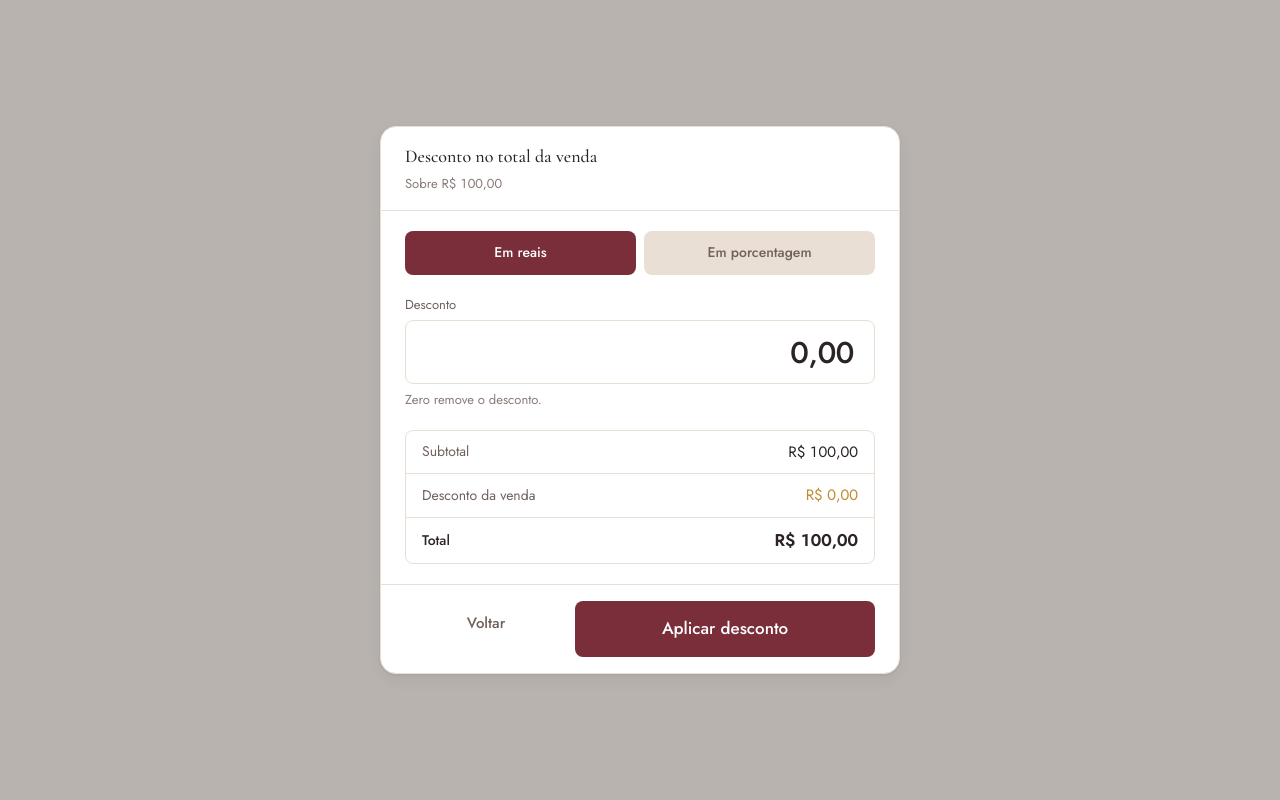
Test: ModalDesconto — acima da alçada › não deixa confirmar sem a liberação da gerente
Click the button "Em porcentagem" at (760, 252), box [644,230,875,274]
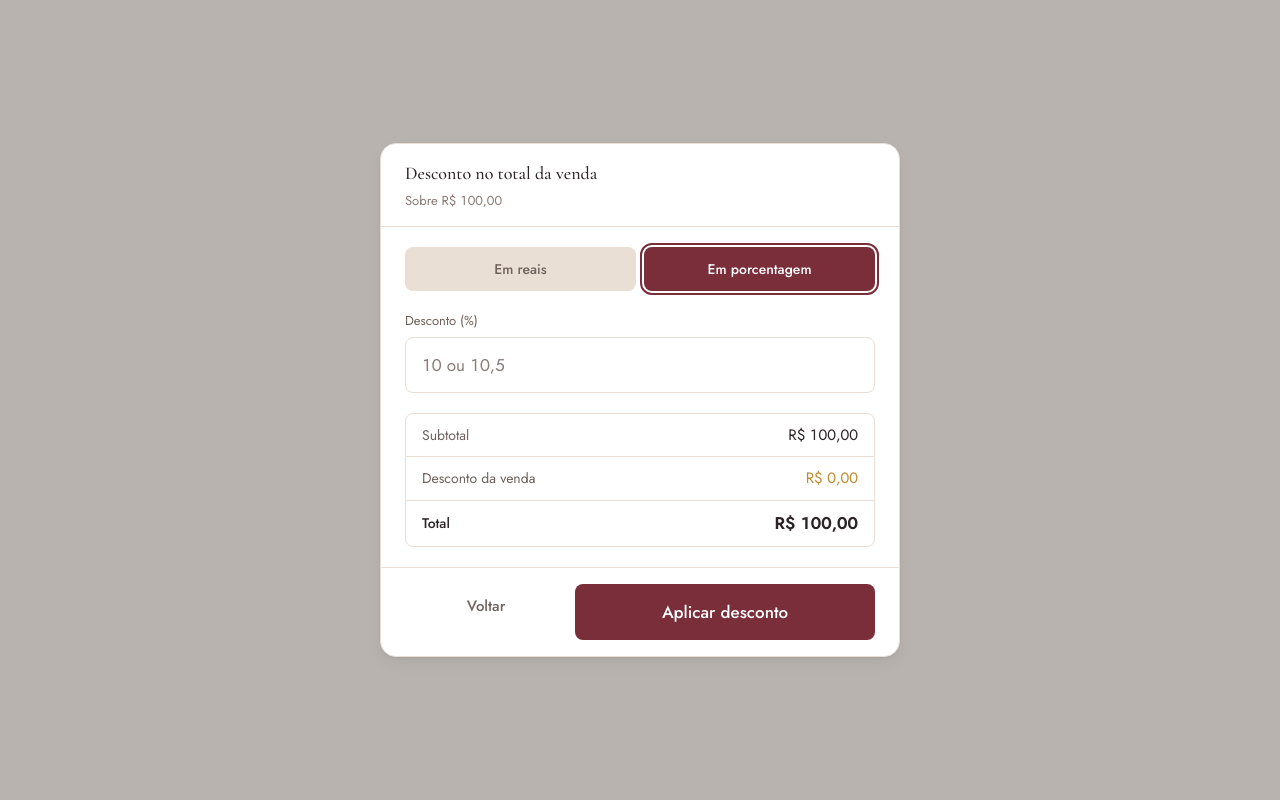
Type "20" into the field labelled "Desconto (%)" at (640, 365), box [405,337,875,393]
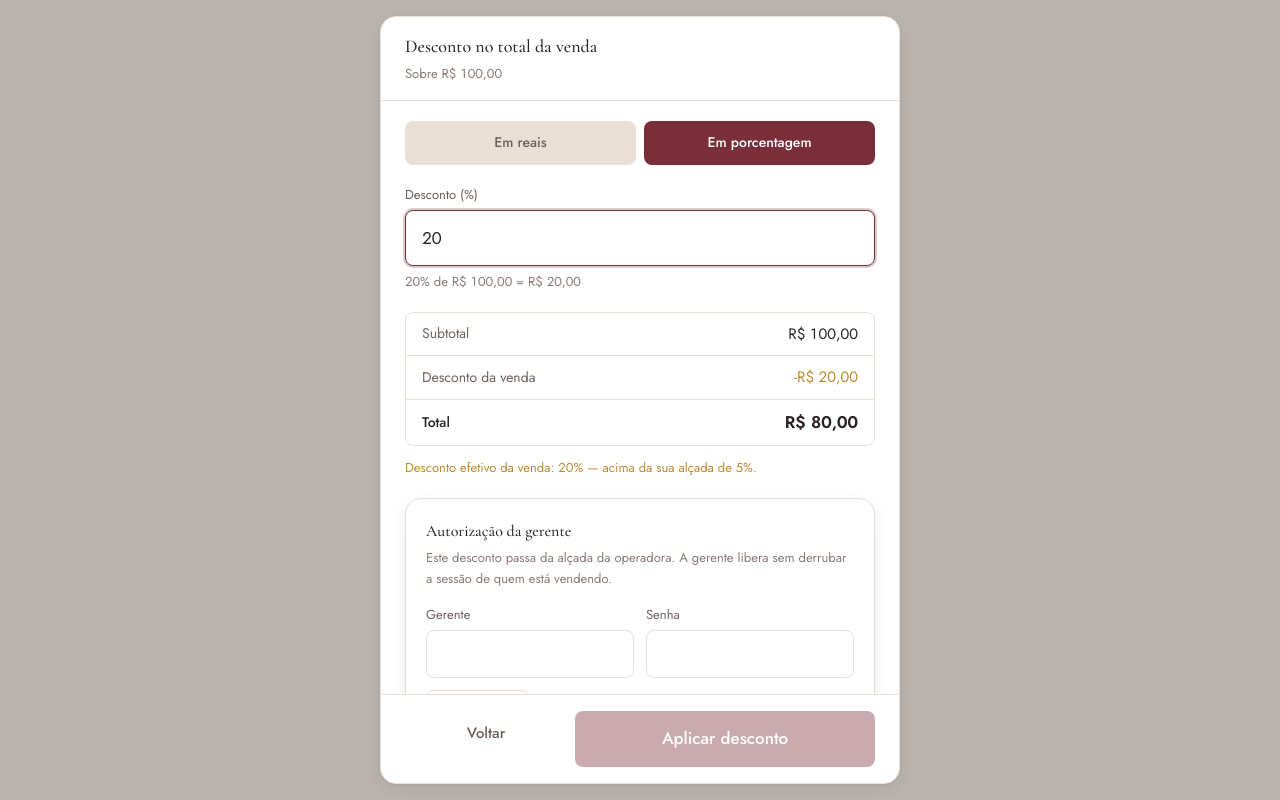
Check: the heading "Autorização da gerente" is shown, box [426,520,571,540]
Check: the button "Aplicar desconto" is disabled, box [575,711,875,767]
